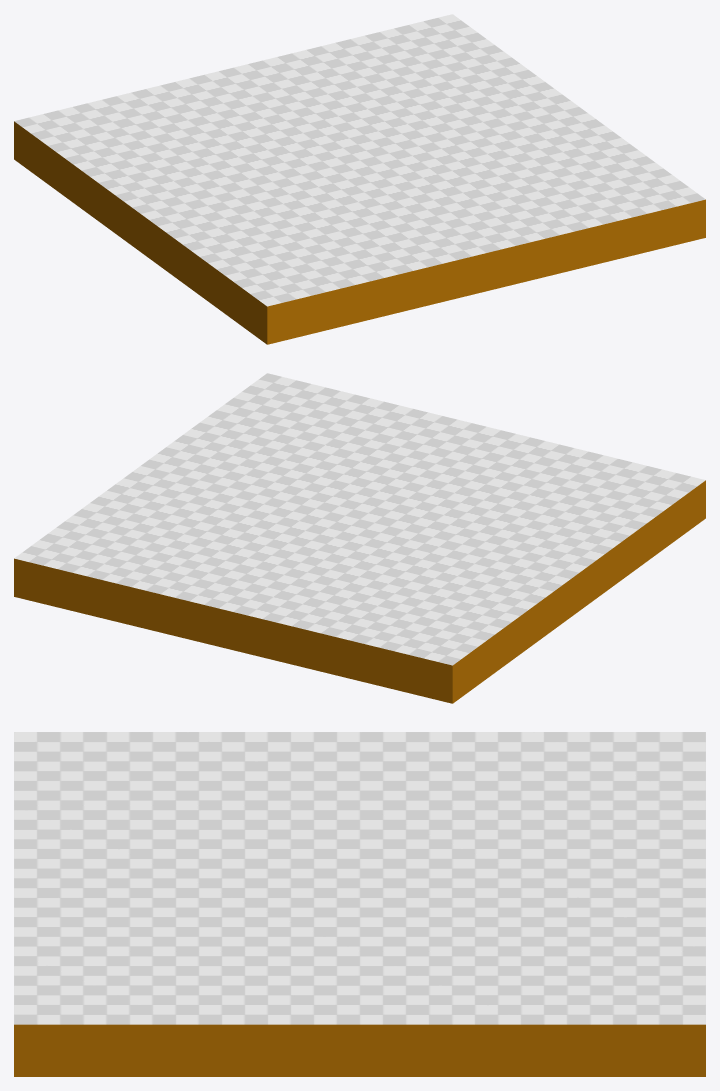
Rendered from floor.fbx.
3 renders of one model, top to bottom at view 1: azimuth 30°, elevation 25°; view 2: azimuth 150°, elevation 25°; view 3: azimuth 270°, elevation 25°, orthographic. The views are drawn at different scales.
Parts seen in each view (by area): view 1: Cube; view 2: Cube; view 3: Cube.
Boxes of the visible parts, left/top/right/bottom form: Cube: left=14, top=14, right=705, bottom=344; Cube: left=14, top=373, right=705, bottom=703; Cube: left=14, top=732, right=705, bottom=1076.
Size of the model in its own units: 2400 by 200 by 2400.
